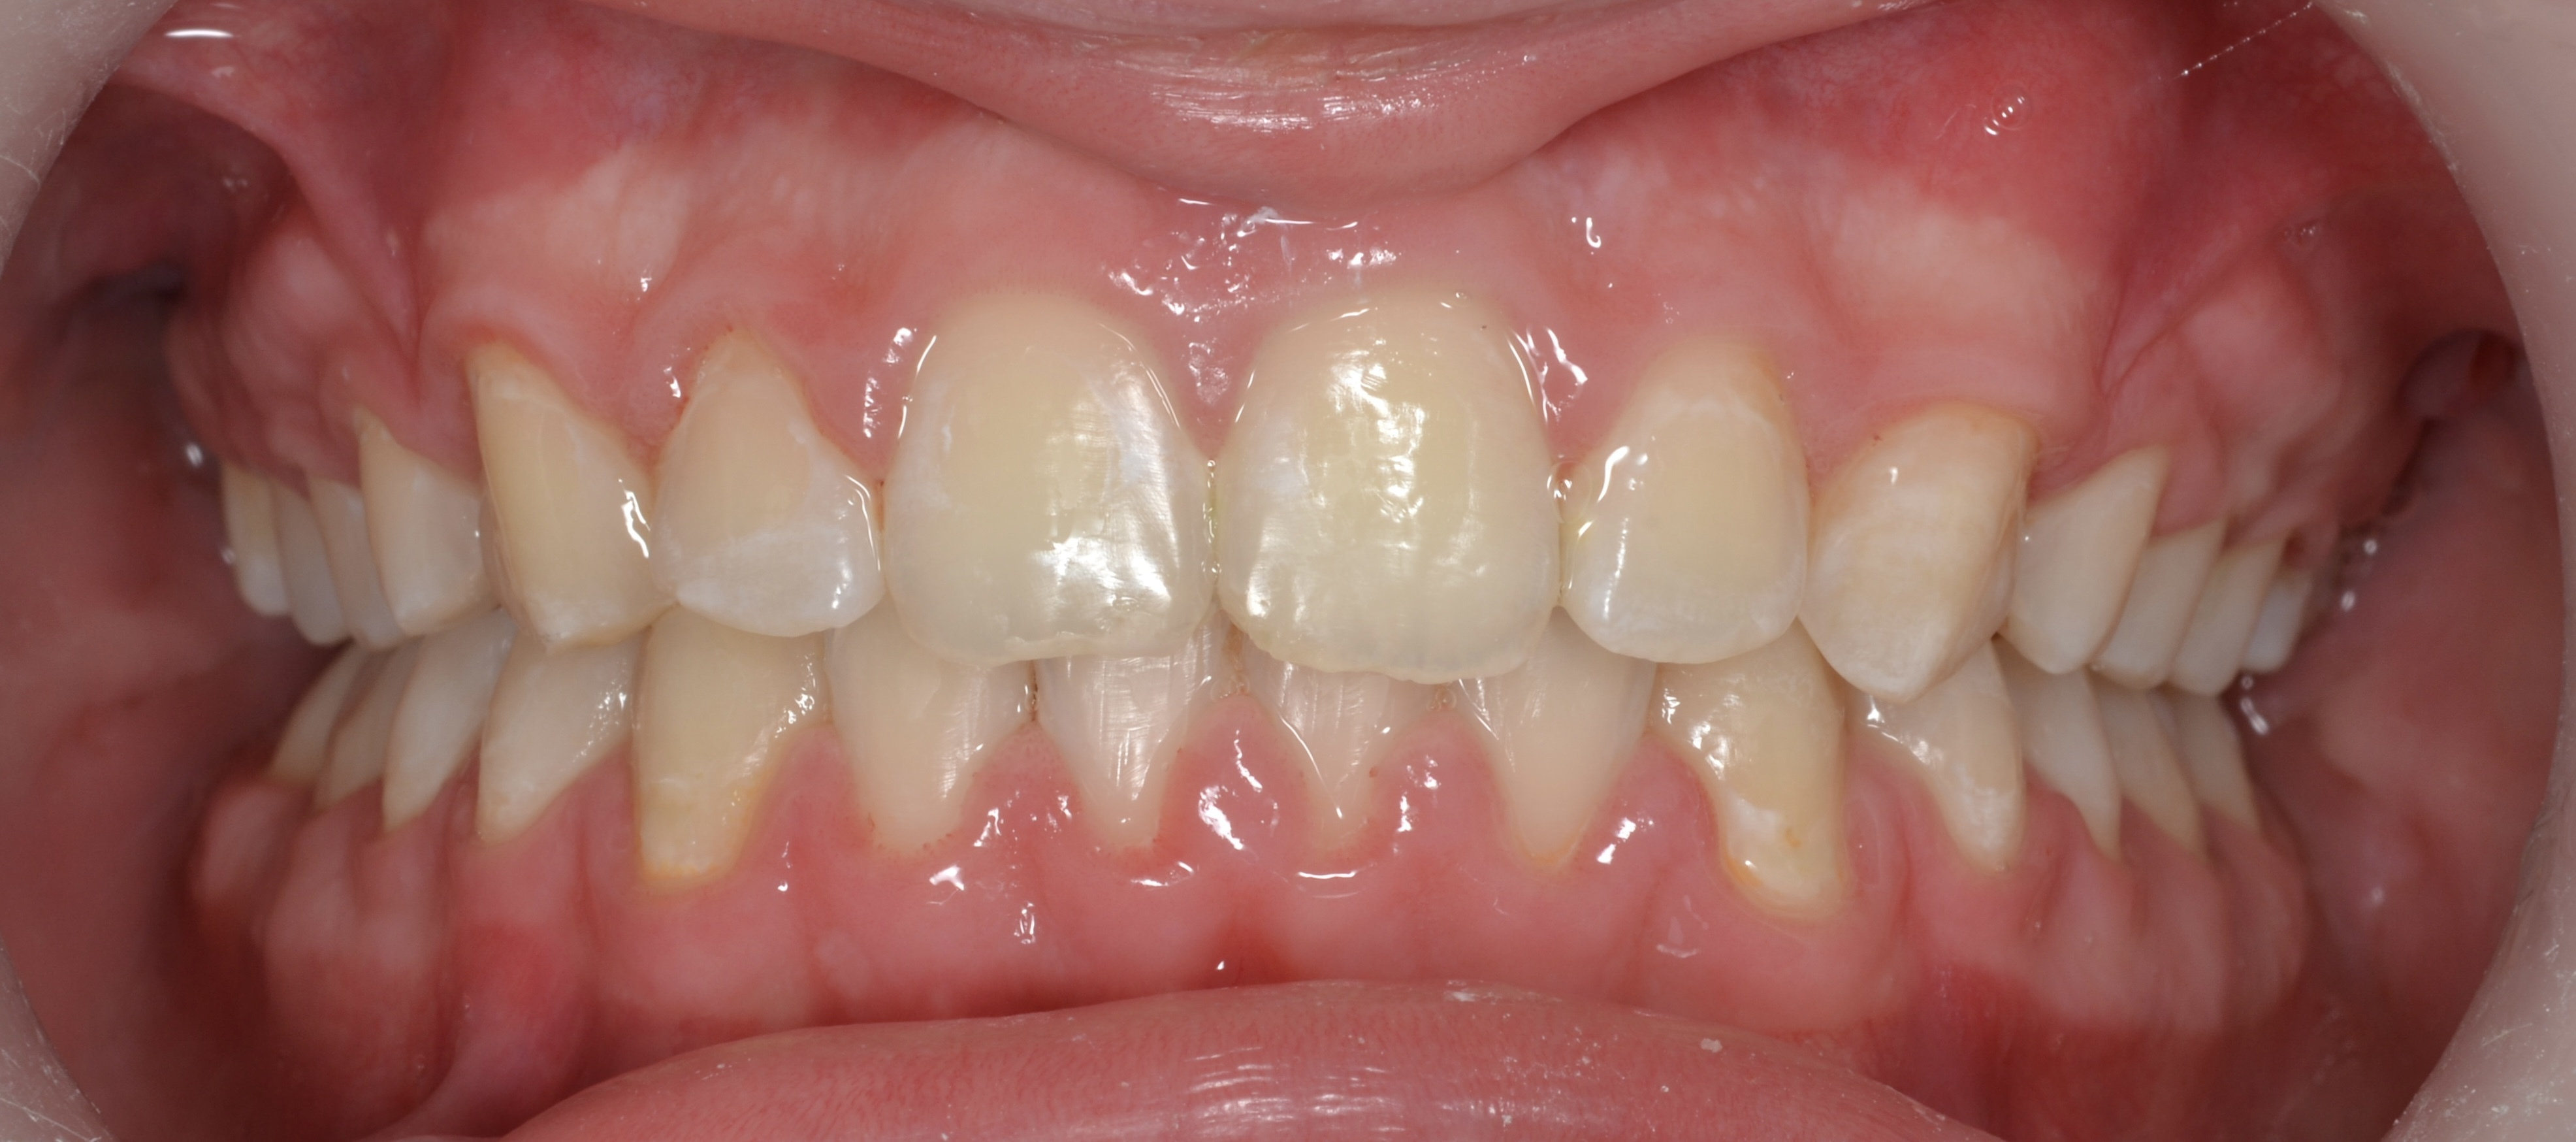LL1BC_healthy: (1860, 693, 2029, 873)
LL1M_healthy: (2111, 679, 2200, 863)
LL2BC_healthy: (2024, 674, 2116, 871)
LL2M_healthy: (2182, 698, 2254, 835)
LLCI_healthy: (1227, 669, 1451, 850)
LLC_healthy: (1659, 659, 1870, 910)
LLLI_healthy: (1456, 672, 1661, 868)
LR1BC_healthy: (481, 651, 634, 840)
LR1M_healthy: (322, 657, 386, 812)
LR2BC_healthy: (386, 641, 483, 833)
LR2M_healthy: (274, 659, 338, 782)
LRCI_healthy: (1033, 661, 1214, 835)
LRC_healthy: (637, 634, 820, 882)
LRLI_healthy: (823, 664, 1028, 854)
UL1BC_healthy: (2017, 445, 2169, 672)
UL1M_healthy: (2187, 531, 2287, 687)
UL2BC_healthy: (2106, 516, 2224, 682)
UL2M_healthy: (2257, 562, 2308, 677)
ULCI_healthy: (1209, 299, 1564, 682)
ULC_healthy: (1807, 411, 2031, 698)
ULLI_healthy: (1569, 345, 1807, 667)
UR1BC_healthy: (363, 414, 483, 639)
UR1M_healthy: (268, 488, 334, 644)
UR2BC_healthy: (322, 480, 386, 644)
UR2M_healthy: (225, 468, 281, 621)
URCI_healthy: (884, 294, 1209, 664)
URC_healthy: (465, 342, 657, 644)
URLI_healthy: (649, 332, 881, 631)
